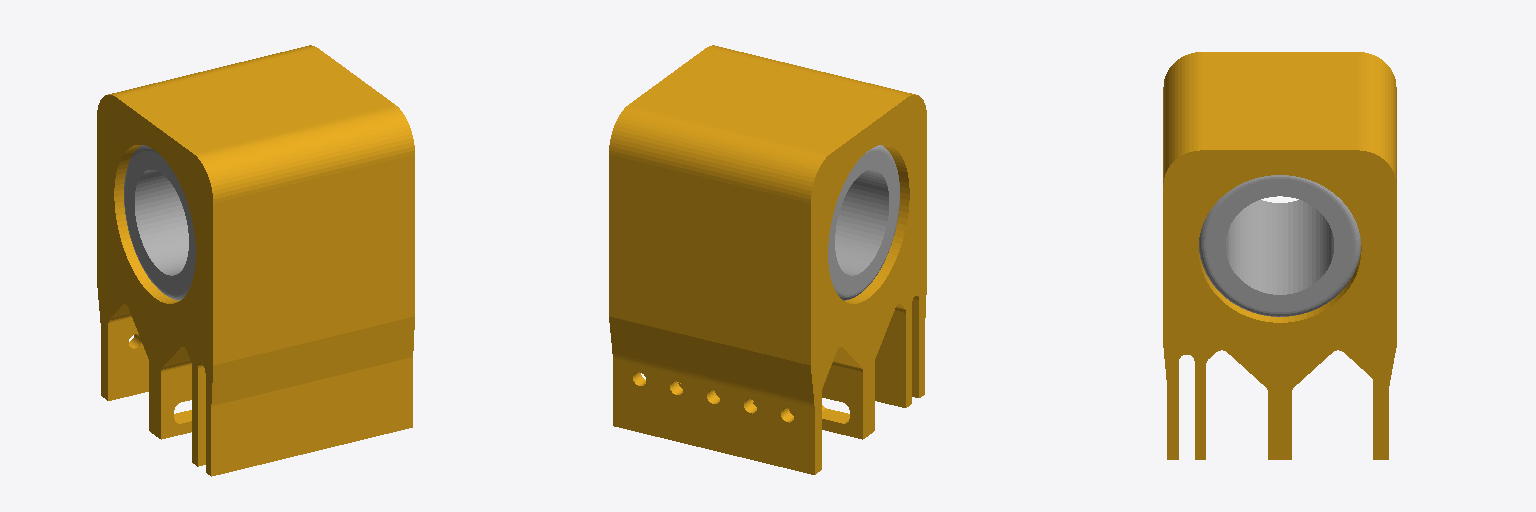
The model's file is Assembly_Moving-Block.obj.
The picture shows the model from 3 angles: view 1: azimuth 30°, elevation 25°; view 2: azimuth 150°, elevation 25°; view 3: azimuth 270°, elevation 25°; orthographic projection.
Parts seen in each view (by area): view 1: Body1:1, Body1; view 2: Body1:1, Body1; view 3: Body1:1, Body1.
Part boxes in pixels (x1,y1,x2,y2): Body1:1: (97, 45, 414, 476); Body1: (124, 145, 195, 300); Body1:1: (609, 45, 926, 474); Body1: (828, 145, 899, 300); Body1:1: (1163, 52, 1396, 459); Body1: (1199, 175, 1360, 316).
Size of the model in its own units: 0.03 by 0.044 by 0.03.